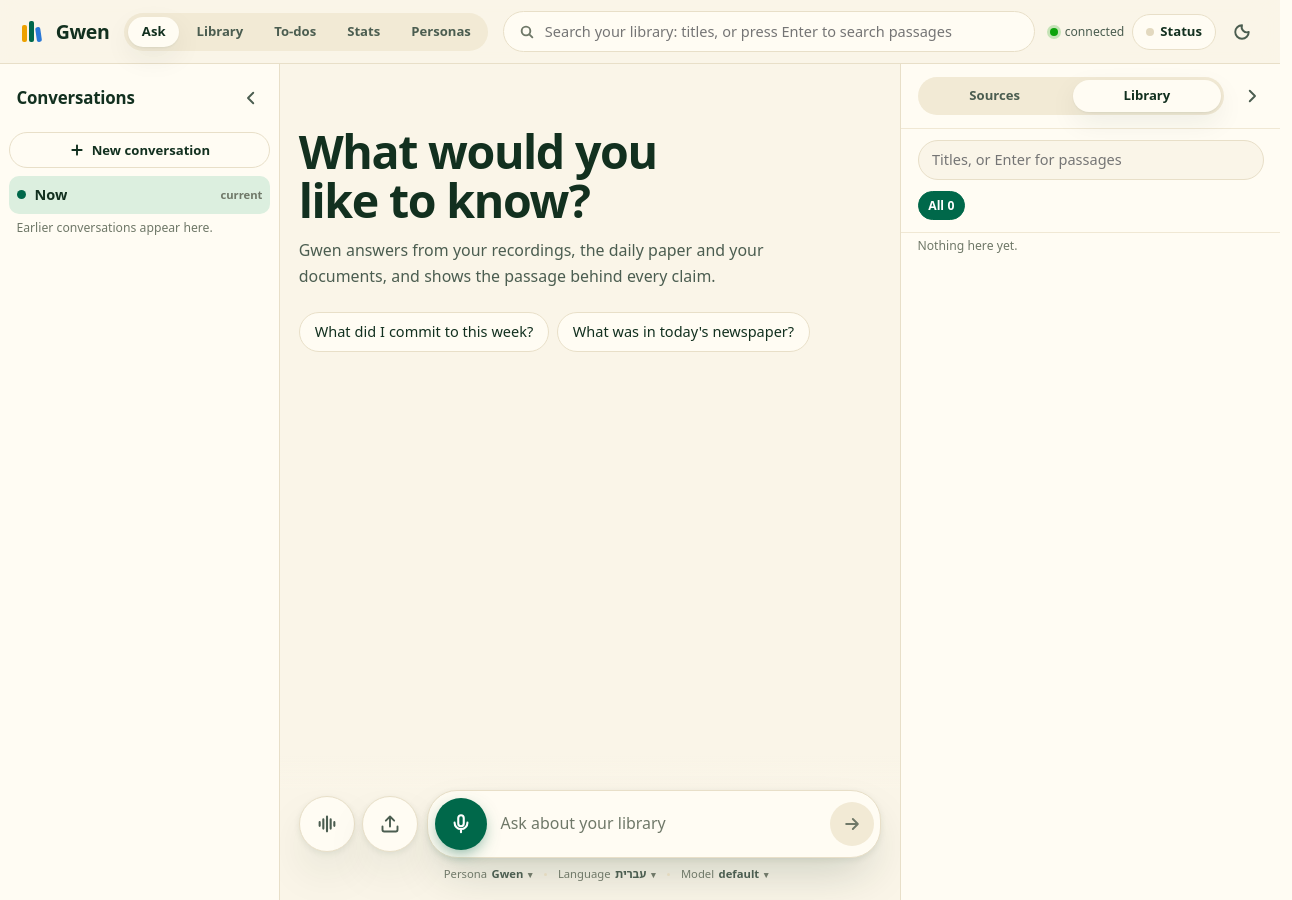
App — a public-host session with no secret (Access), end to end › a second citation to the open item moves the reader to the new anchor; Close dismisses it
The width and height of the screenshot is (1292, 900).
Type "q" into the text box named "message" at (658, 824), box [493, 802, 824, 846]
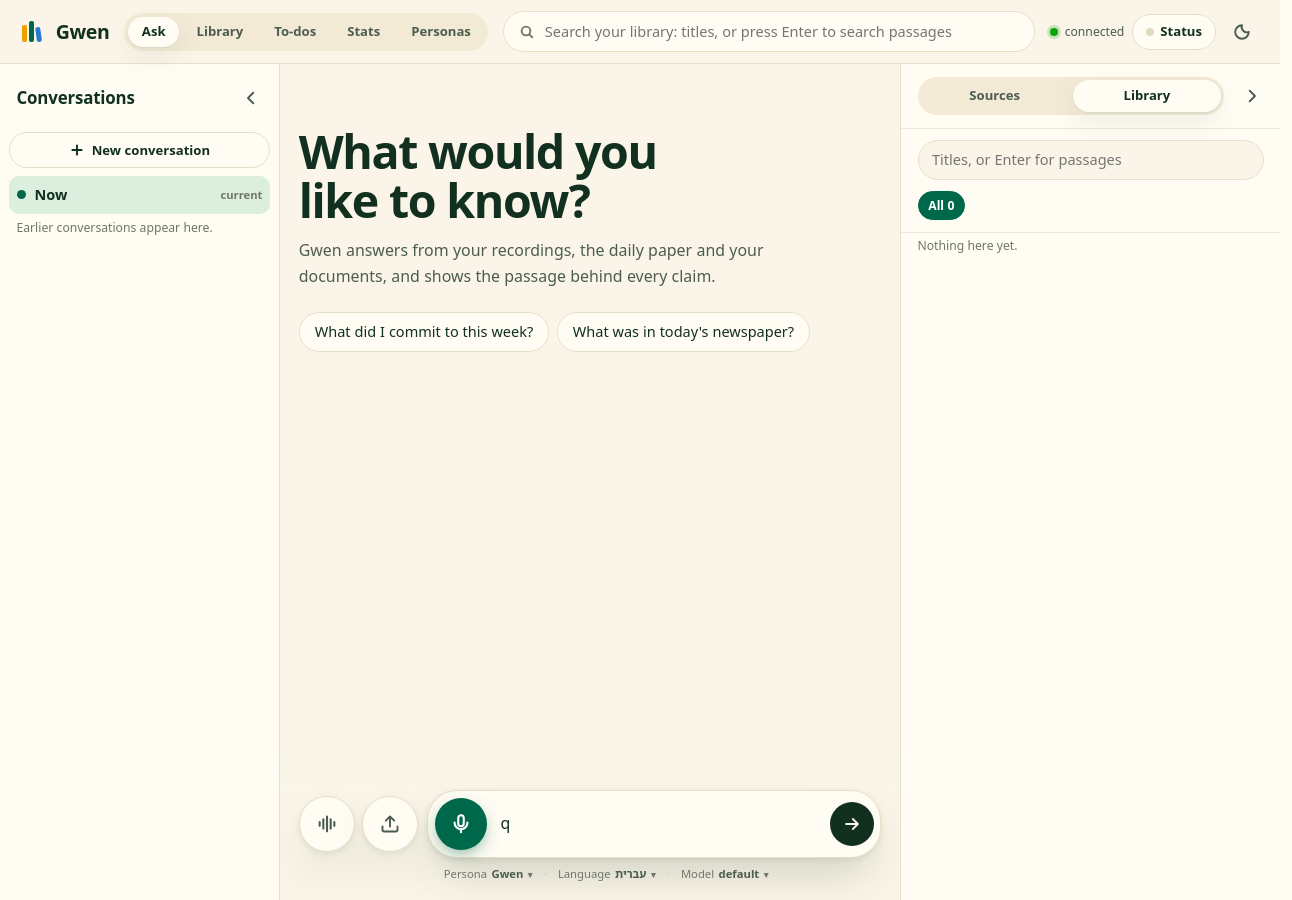
Submit the form named "composer", box [299, 790, 881, 858]
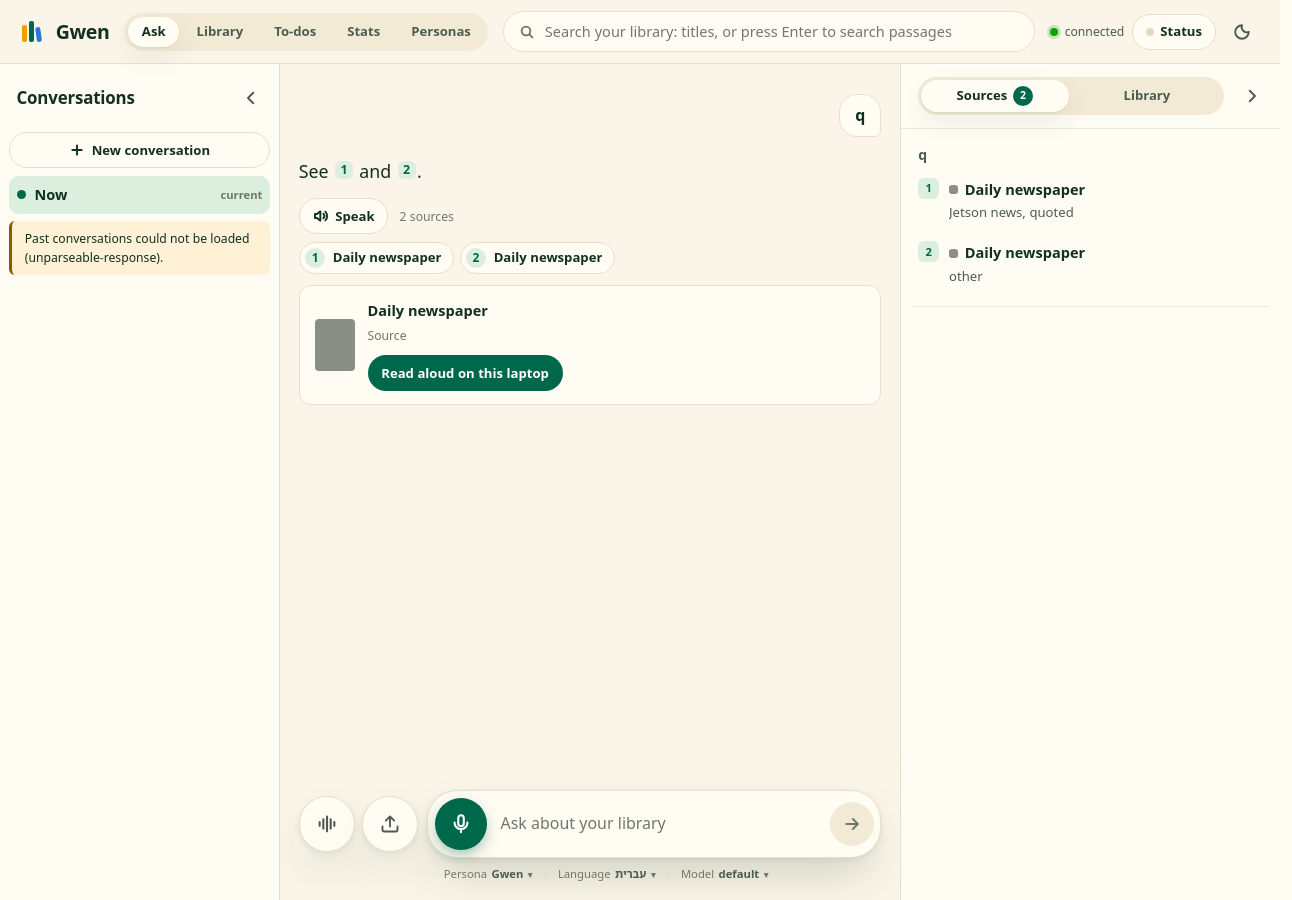
Click the button named "Open source 1" at (344, 170), box [335, 161, 353, 179]
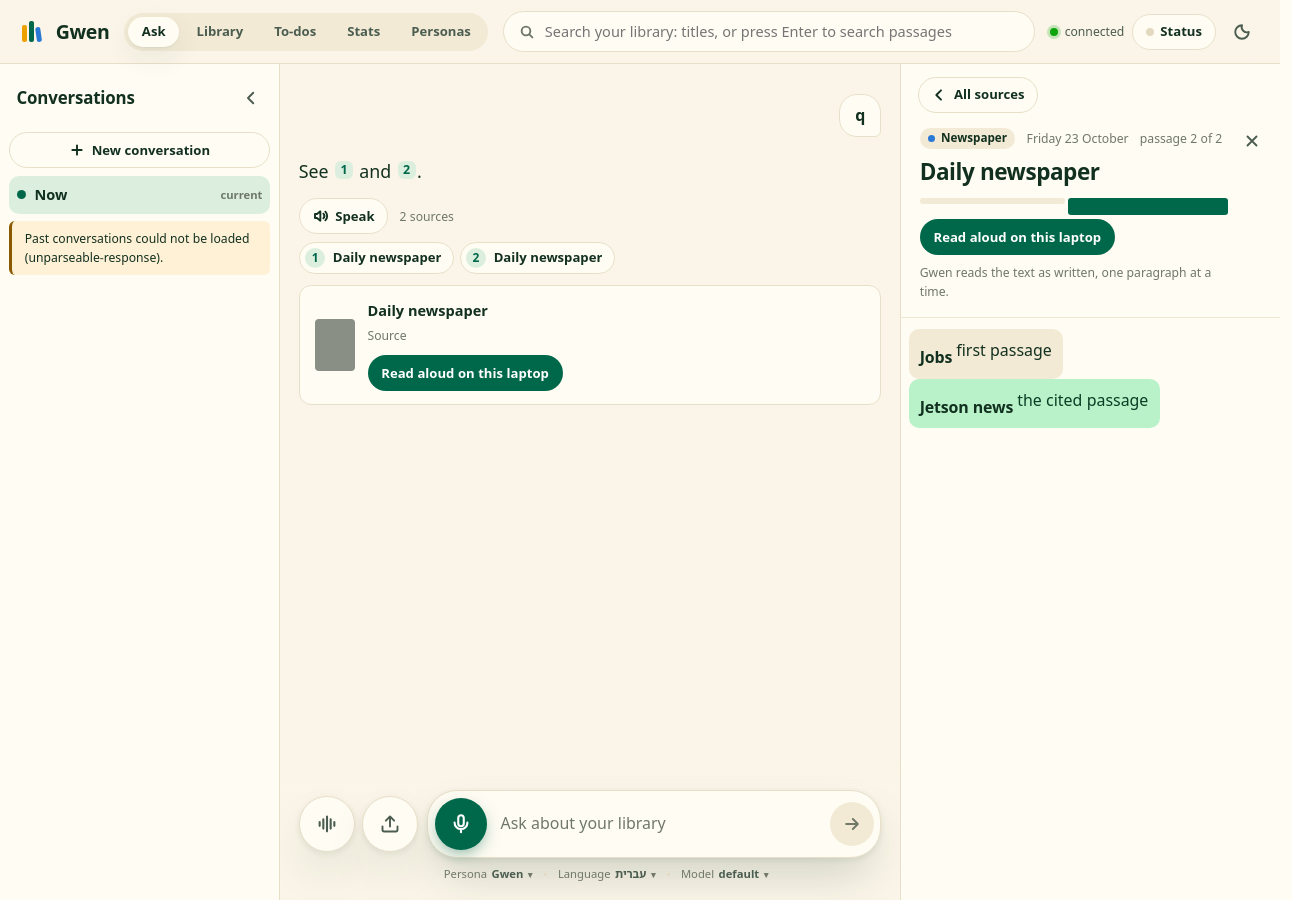
Check: the text "the cited passage" is shown, box [1017, 387, 1148, 420]
Click the button named "Open source 2" at (407, 170), box [398, 161, 416, 179]
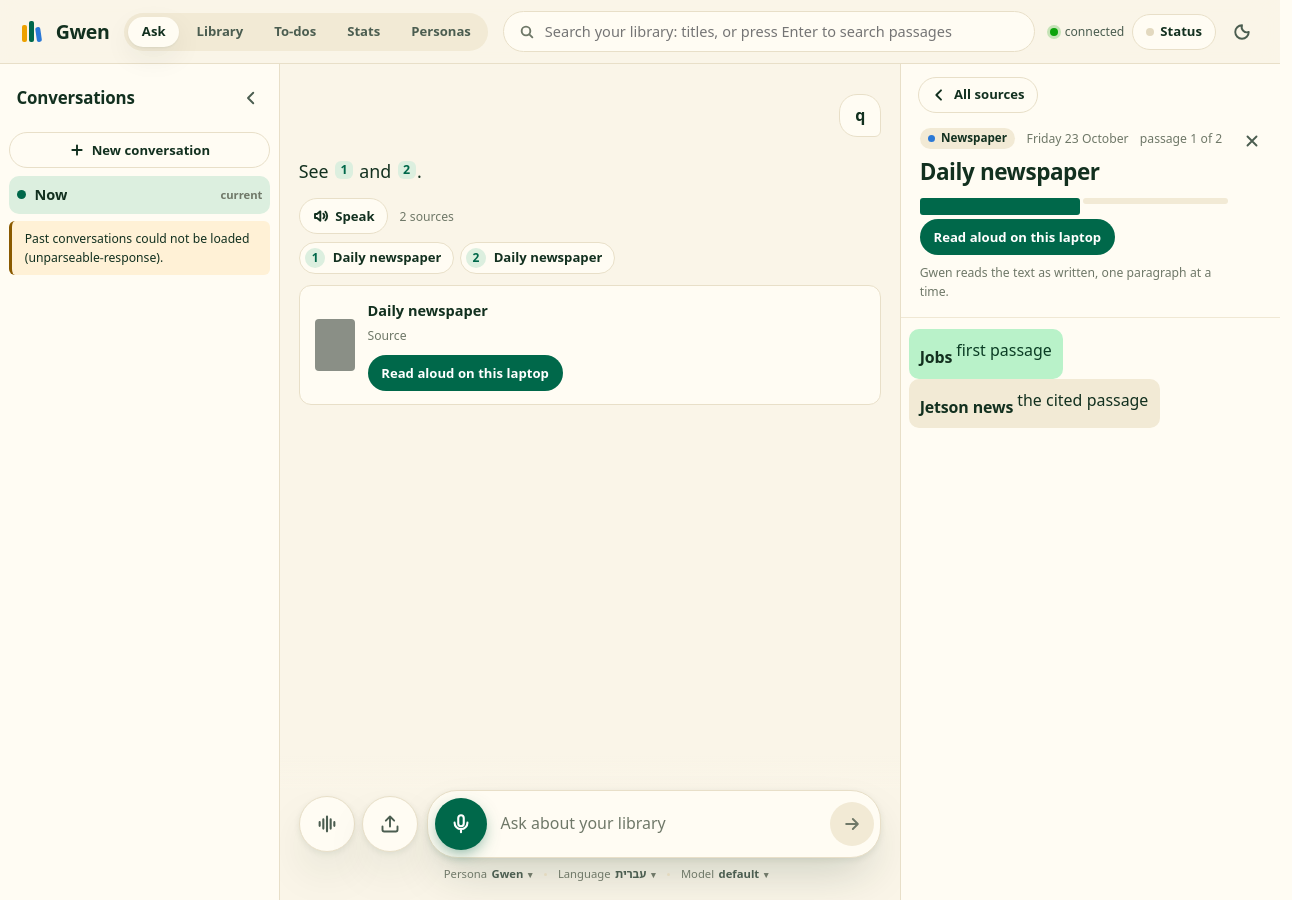
Check: the list item "first passage" is marked as current, box [908, 329, 1063, 379]
Click the button named "Close" at (1252, 141), box [1233, 122, 1271, 160]
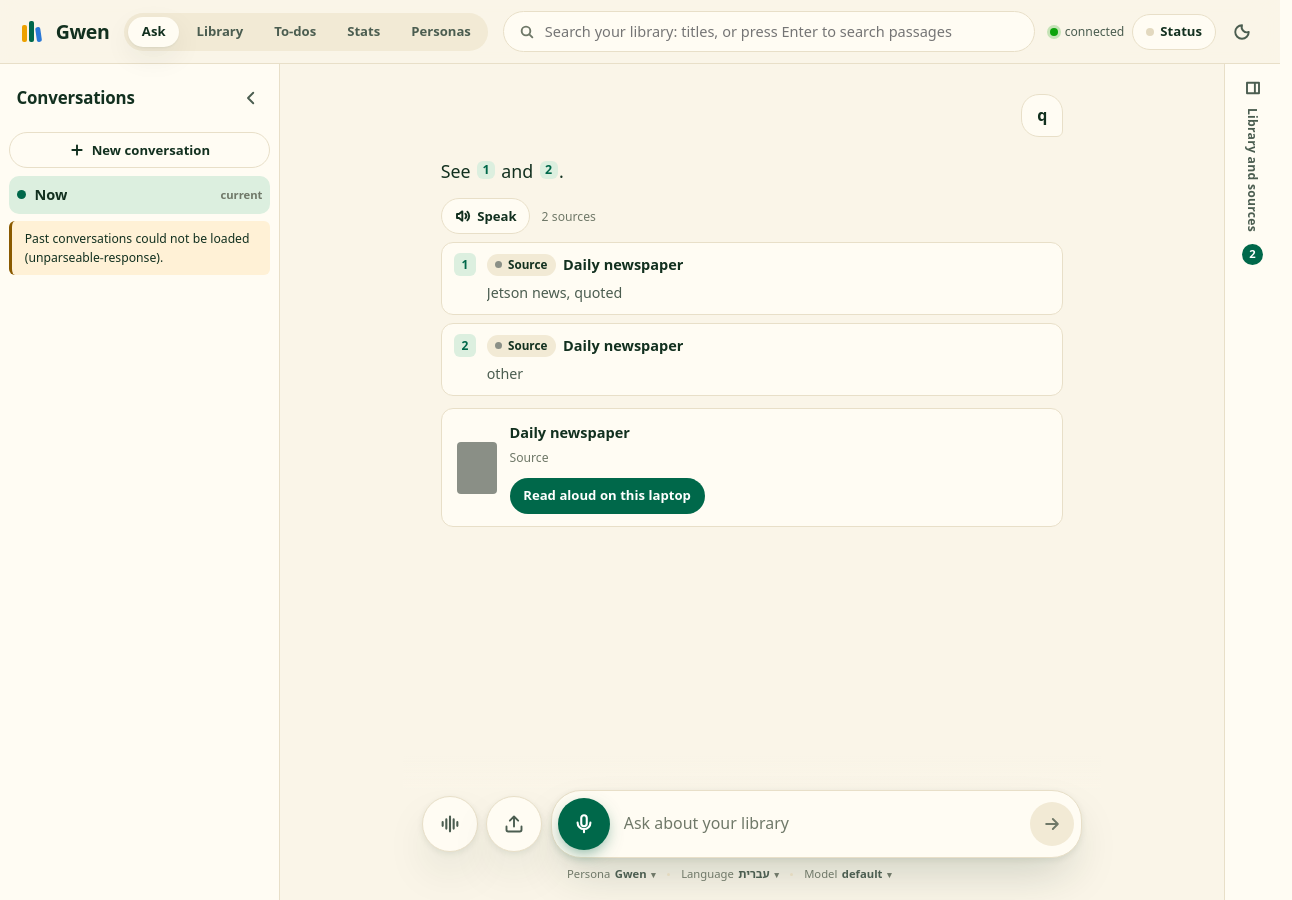
Check: the element "Reader" is gone
